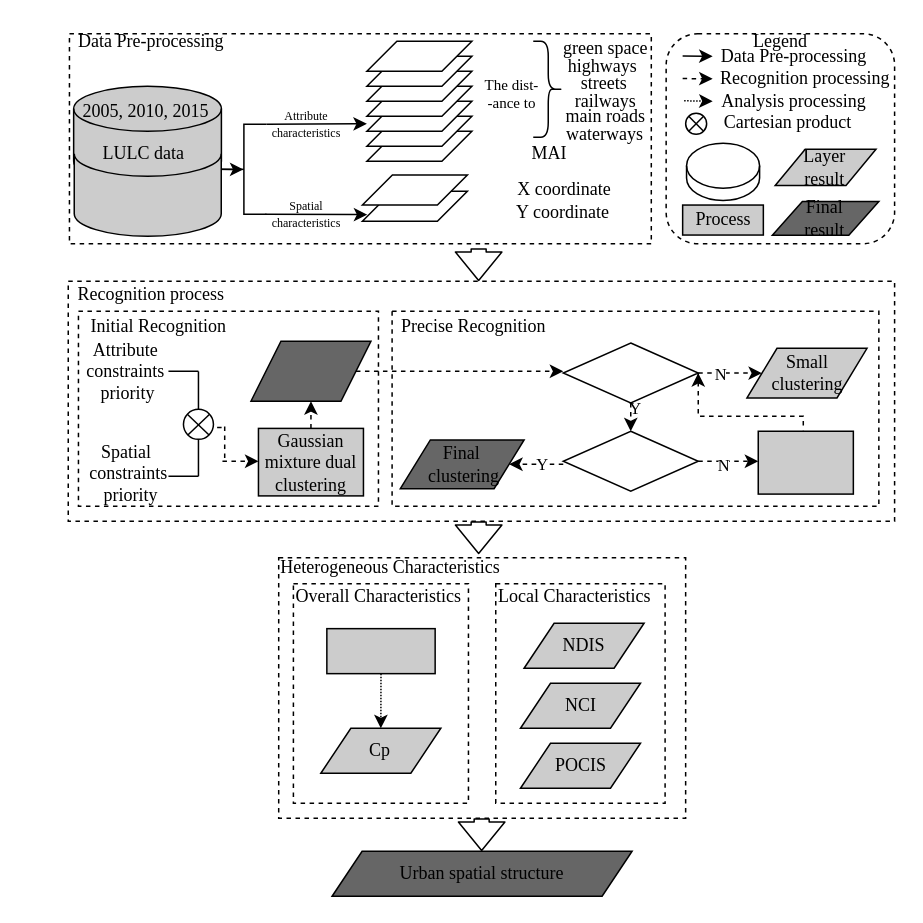
The diagram is 923 pixels wide and 923 high, and some of its shapes have lost their labels. Each missing label, with the centre of its shape:
"Division based on density" belongs at pixel 805 462.
"Gradient analysis" belongs at pixel 380 650.
"Initial clustering" belongs at pixel 310 370.
"Roads and waterways from OSM" belongs at pixel 147 194.
"Satisfy the constraints?" belongs at pixel 630 372.
"Satisfy the rule?" belongs at pixel 630 460.
"SDB" belongs at pixel 722 171.
